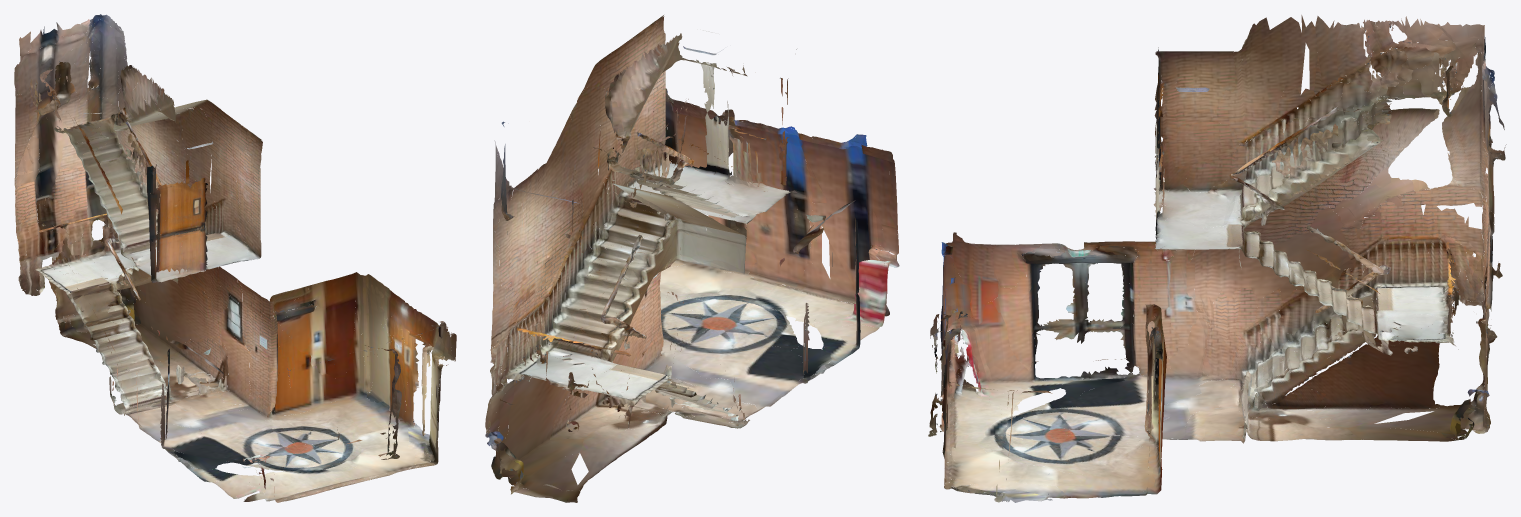
Rendered from mid_stair.glb.
The picture shows the model from 3 angles, left to right: view 1: azimuth 30°, elevation 25°; view 2: azimuth 150°, elevation 25°; view 3: azimuth 270°, elevation 25°; orthographic projection. The views are drawn at different scales.
Parts seen in each view (by area): view 1: mid_stair_F1, mid_stair_F2; view 2: mid_stair_F1, mid_stair_F2; view 3: mid_stair_F1, mid_stair_F2.
Boxes of the visible parts, x1,y1,x2,y2 form: mid_stair_F1: (15,173,456,502); mid_stair_F2: (14,14,262,282); mid_stair_F1: (485,88,899,502); mid_stair_F2: (493,15,798,313); mid_stair_F1: (928,204,1502,502); mid_stair_F2: (1153,15,1506,266).
Bounding box in the file's own units: 5.42 × 7.23 × 10.27.
1 material, 1 textured.
